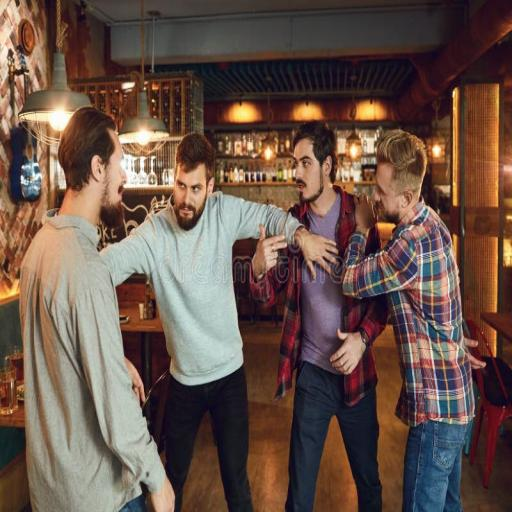fight: (17, 78, 488, 482)
